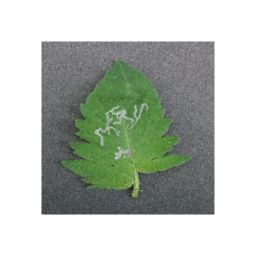liriomyza: (93, 100, 148, 147), (114, 145, 130, 160)
